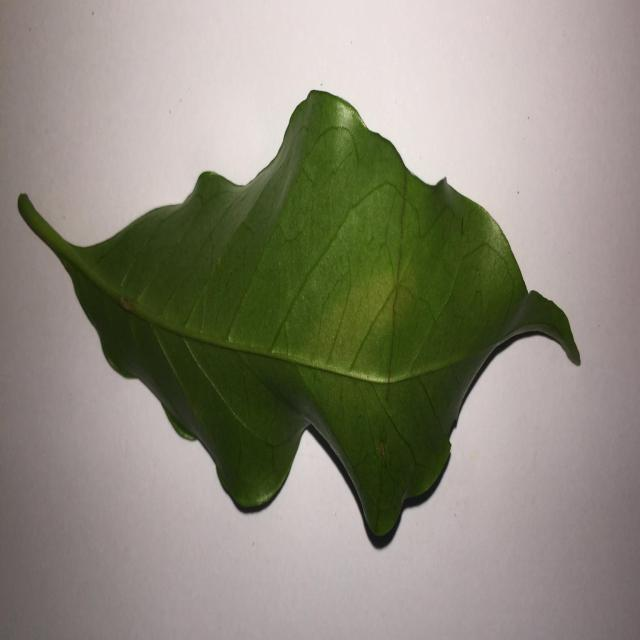Sanas: (15, 90, 582, 552)
